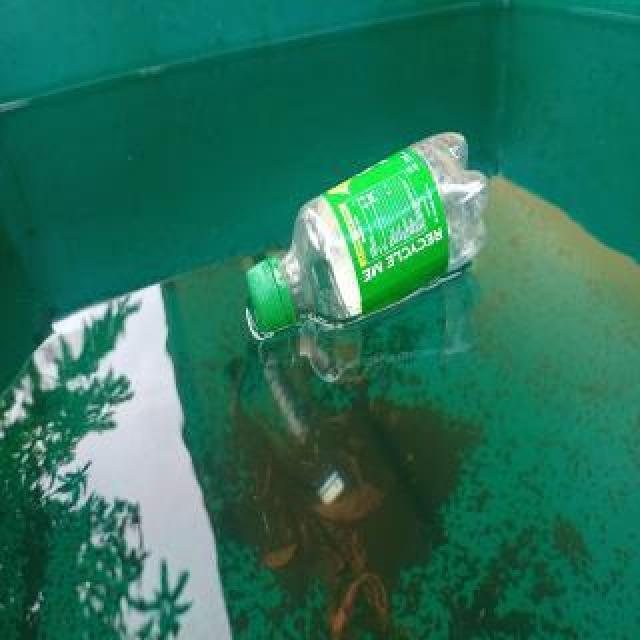bottle: (243, 125, 491, 341)
